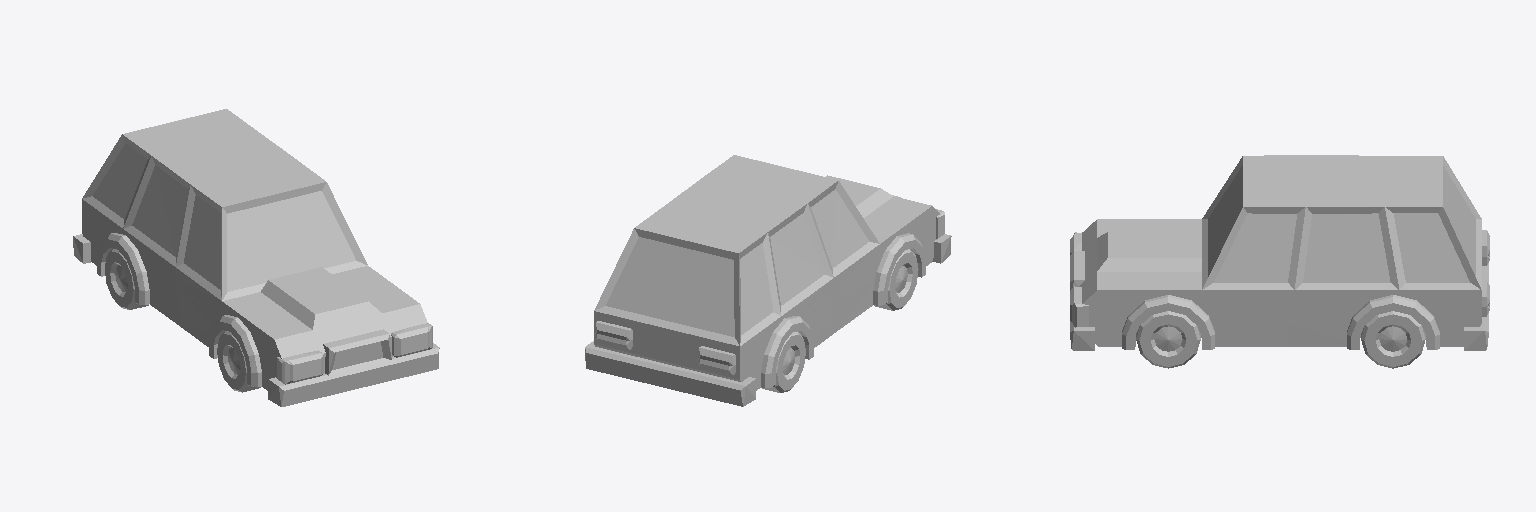
File: Stationwagon.obj
The picture shows the model from 3 angles: view 1: azimuth 30°, elevation 25°; view 2: azimuth 150°, elevation 25°; view 3: azimuth 270°, elevation 25°; orthographic projection.
Parts seen in each view (by area): view 1: obj1, obj5, obj4; view 2: obj1, obj4, obj5; view 3: obj1, obj2, obj3.
Part boxes in pixels (x1,y1,x2,y2): obj1: (73, 109, 439, 406); obj5: (105, 249, 148, 309); obj4: (217, 331, 260, 392); obj1: (585, 155, 951, 406); obj4: (874, 249, 918, 310); obj5: (761, 331, 805, 392); obj1: (1070, 155, 1489, 350); obj2: (1136, 311, 1200, 368); obj3: (1361, 311, 1425, 368).
Size of the model in its own units: 0.419 by 0.3688 by 0.9381.